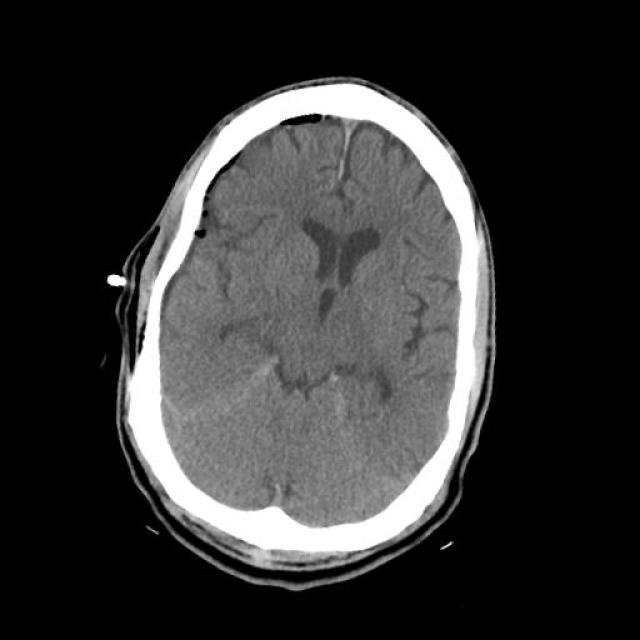Subdural: (302, 91, 388, 195)
